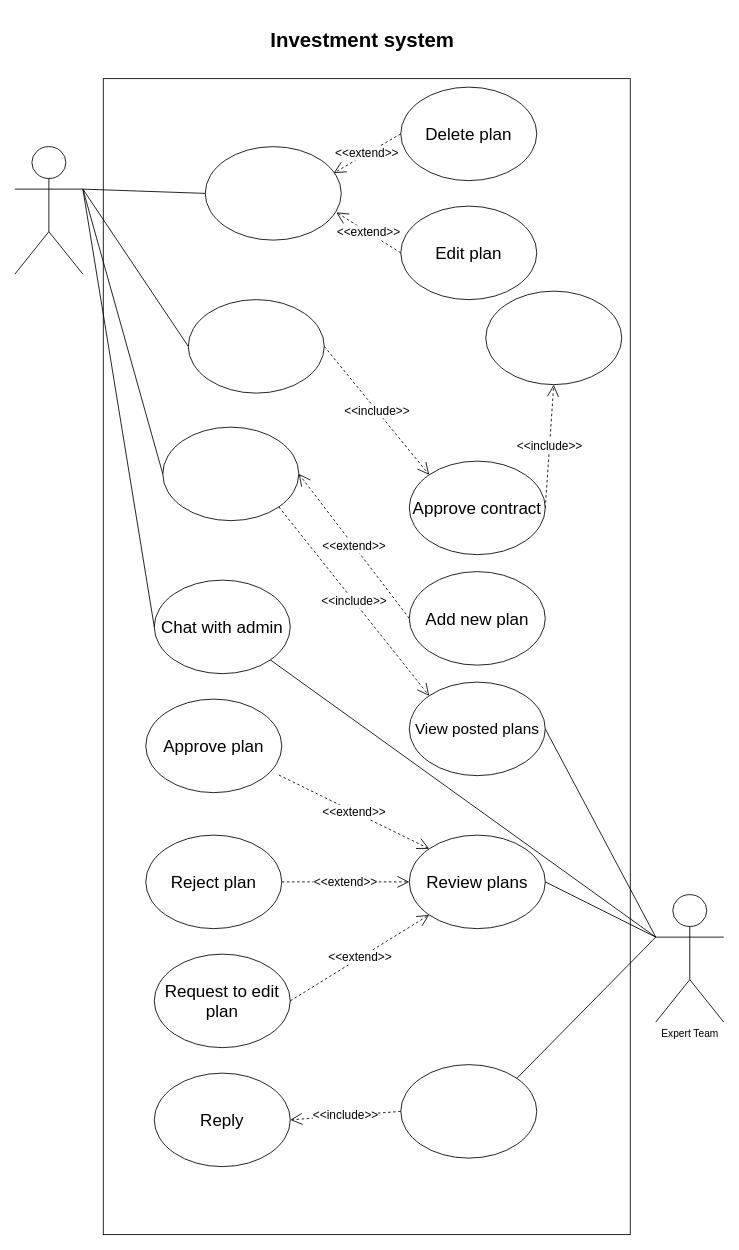
Some shapes in this 739 by 1250 pixel diagram are drawn without their labels. The shapes that lost their labels are listed below. From the top down, each one's centre as x and y in pixels, then its label:
the point at 48,210: Farmer
the point at 272,193: View profile
the point at 255,346: Invest in plans
the point at 553,337: Handle payment
the point at 230,473: Access Dashboard
the point at 468,1111: Review report from admin
